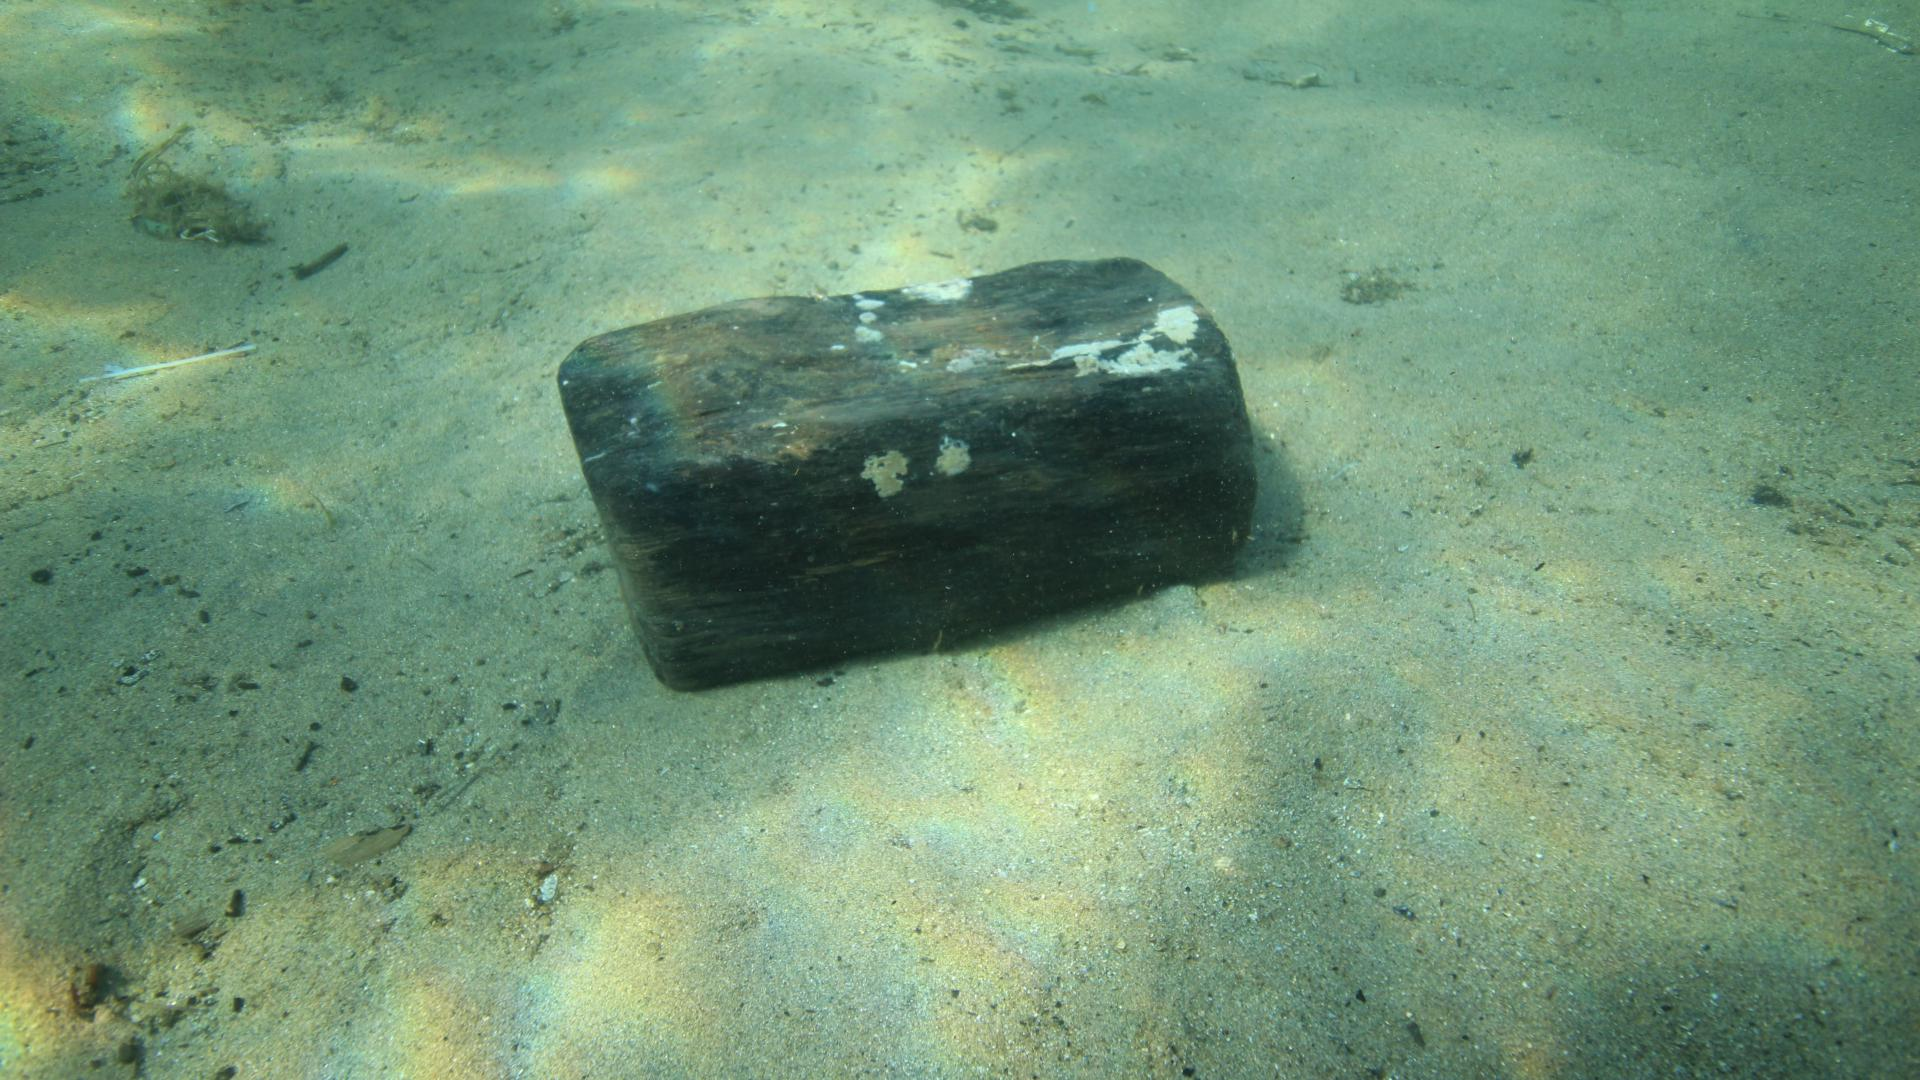wood: (556, 255, 1255, 692)
